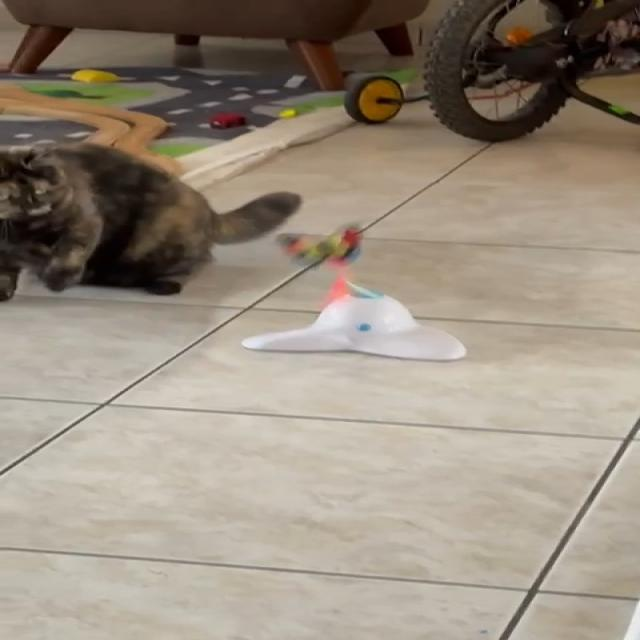authorized: (0, 140, 301, 300)
